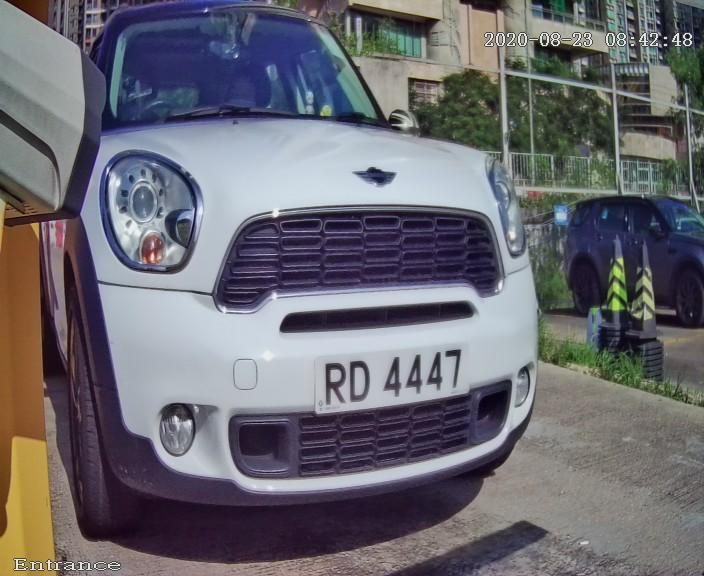Car: (13, 1, 604, 561)
License Plate: (277, 305, 493, 434)
